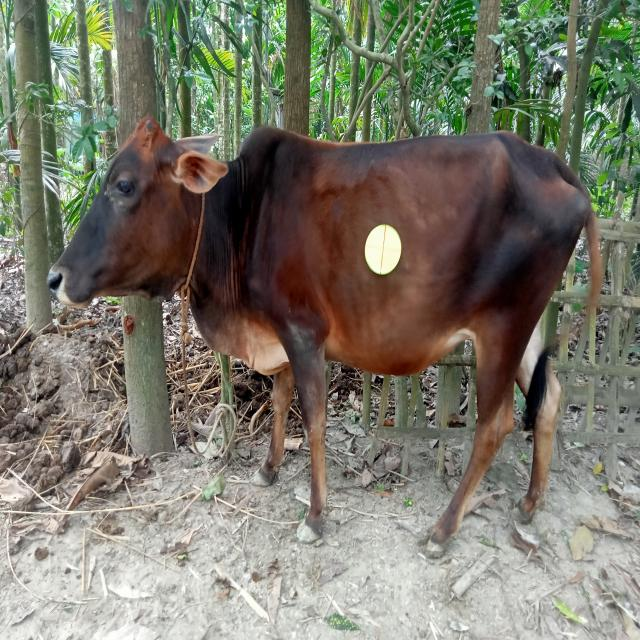badan_sapi: (237, 139, 587, 376)
sapi: (45, 105, 616, 572)
